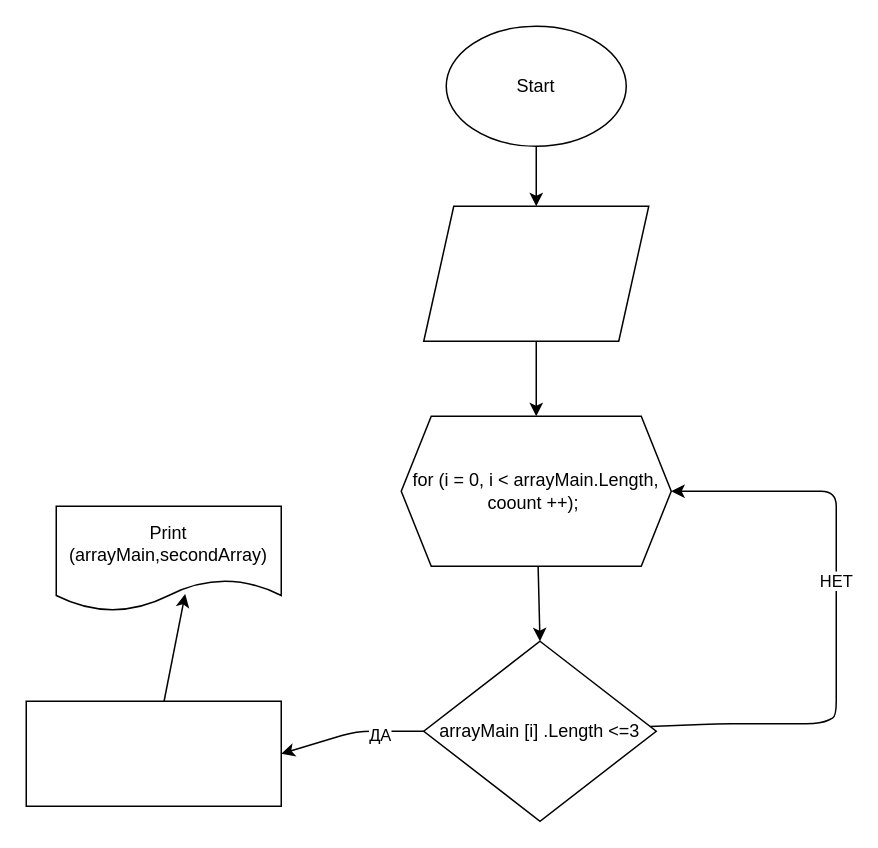
This 878x848 diagram has some shape labels left out. The shapes that lost their labels are listed below. From the top down, each one's centre as x and y in pixels, then its label:
At point 535,273: "String [ ] arrayMain String [ ] secondArray Count = 0".
At point 153,753: "secondArray [count] = arrayMain[i] Count ++".
